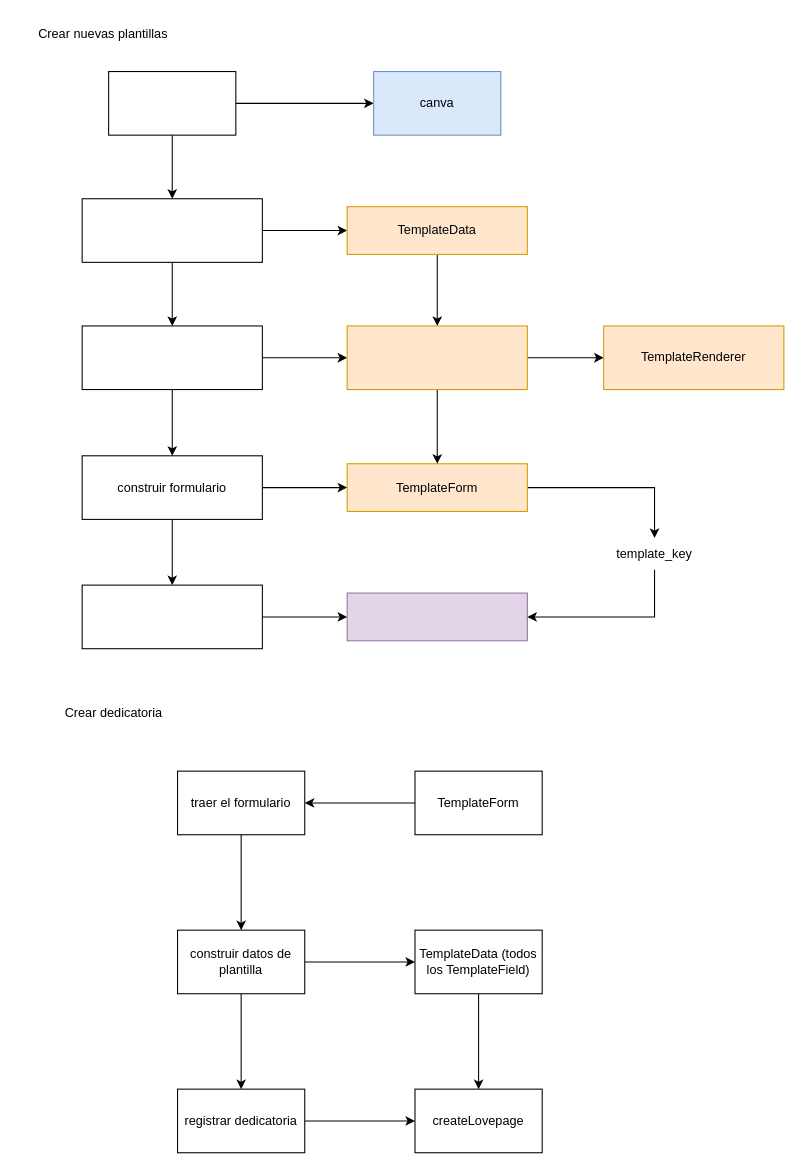
Image size: 802x1171. Some labels were removed from this diagram. Here are the shapes that lost their labels. From the top down, the centre of each, then its label:
(x=172, y=102): diseñar la plantilla
(x=171, y=230): mapear los campos
(x=171, y=357): codificar plantilla
(x=436, y=357): template(TemplateData)
(x=171, y=616): registrar plantilla en bd y en proyecto
(x=436, y=616): INSERT INTO templates ...
